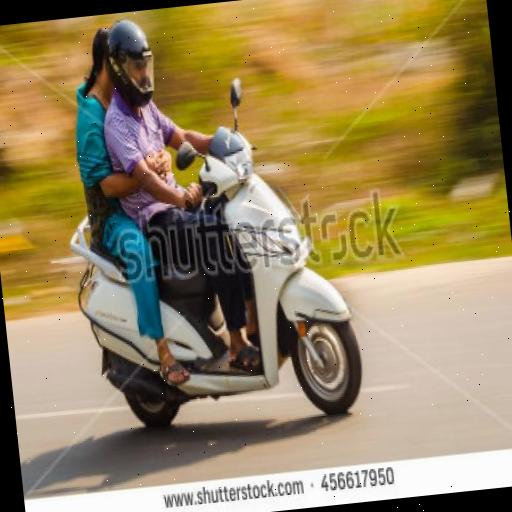helmet: (94, 0, 365, 439)
